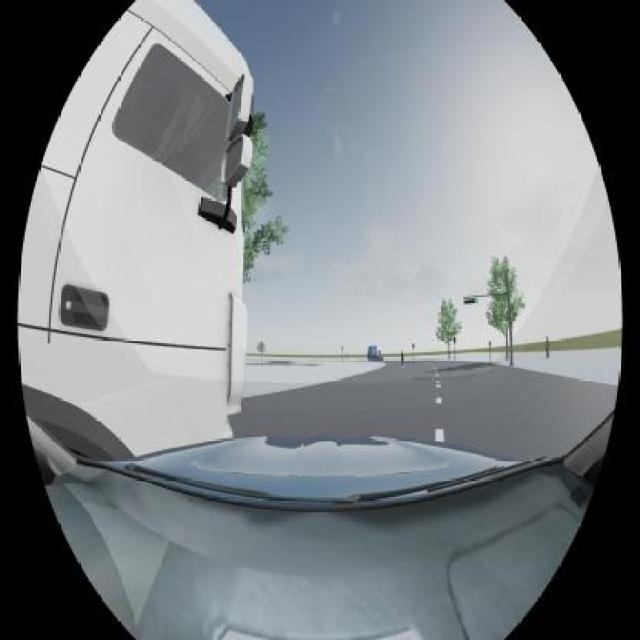forb_speed_over_70: (489, 342, 492, 346)
